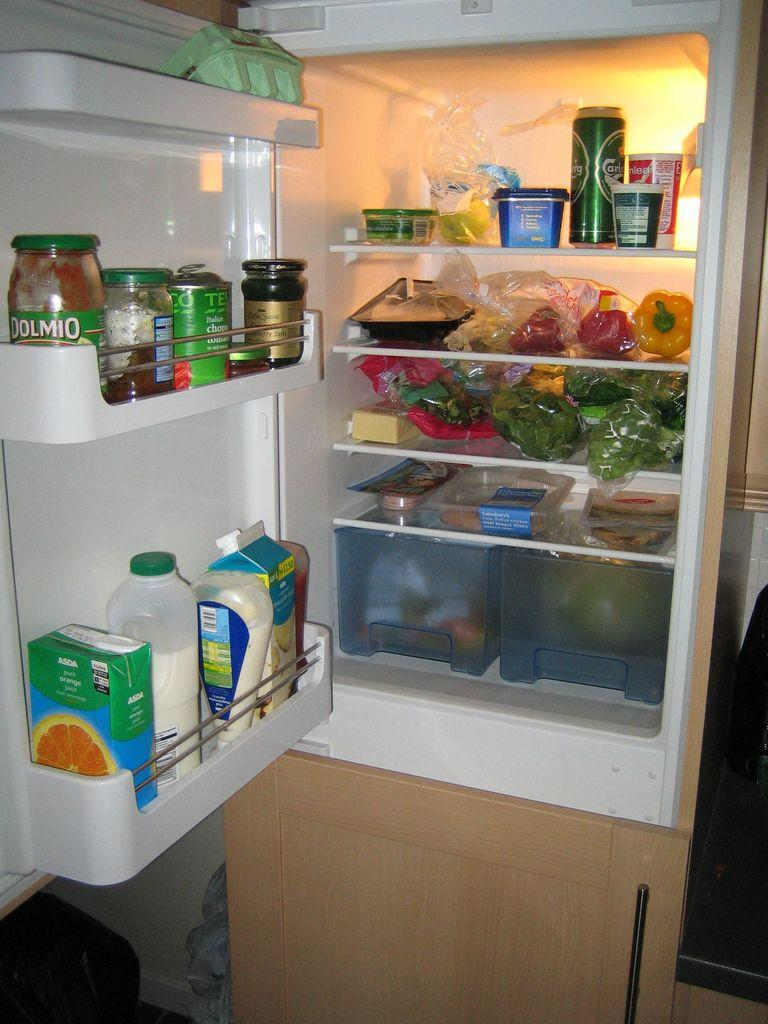handle: (622, 884, 658, 1022)
